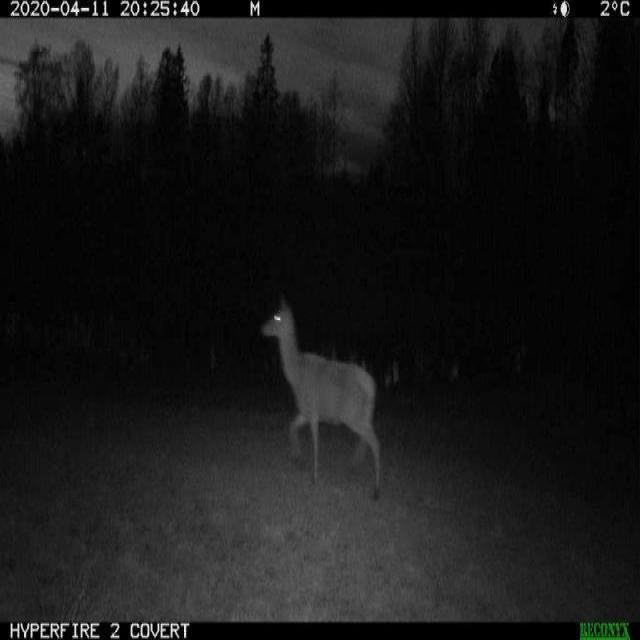deer: (245, 277, 388, 508)
